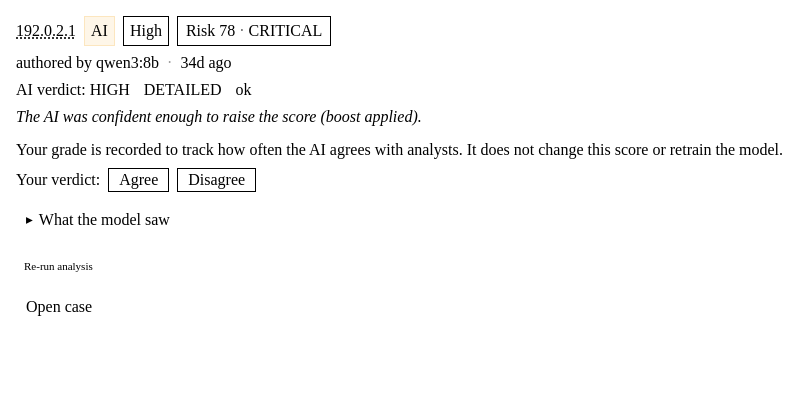
Test: VerdictCard — MK-11 Re-run analysis control › EARS-MK11-18: NO model-authored text rendered from stage events
The image size is (799, 409).
Click the button with test id "verdict-card-rerun-btn" at (58, 266), box [16, 257, 101, 275]
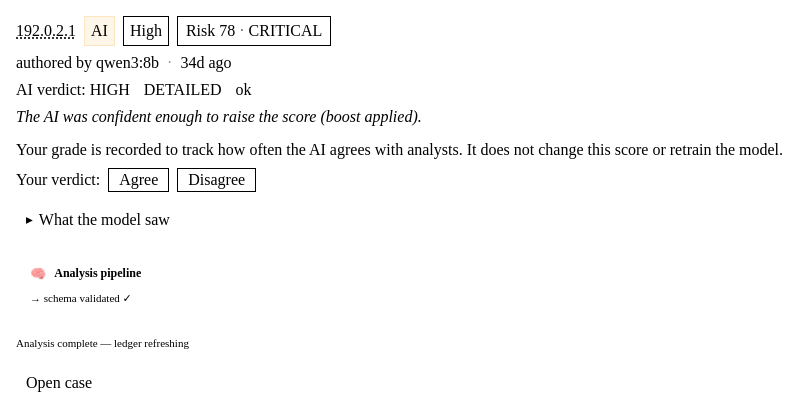
Expected: the button with test id "verdict-card-rerun-btn" is gone
